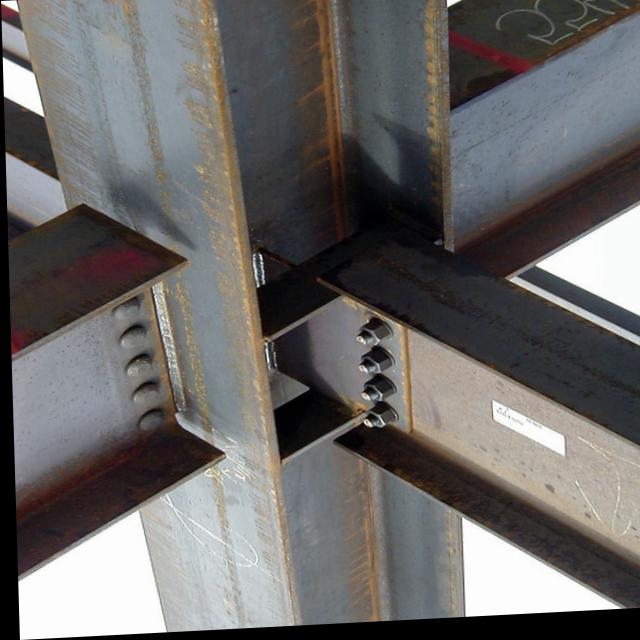Regular bolt: (353, 326, 388, 351), (358, 382, 391, 406), (357, 353, 389, 377), (362, 409, 392, 433)
